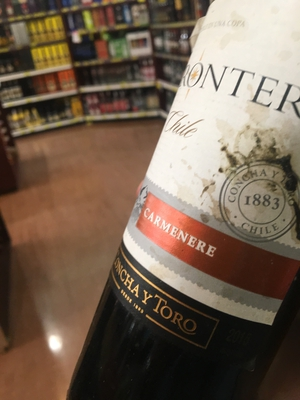frontera carmenere: (91, 3, 300, 370)
